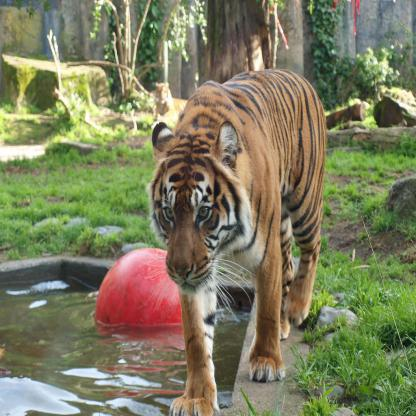Tiger: (138, 66, 326, 416)
